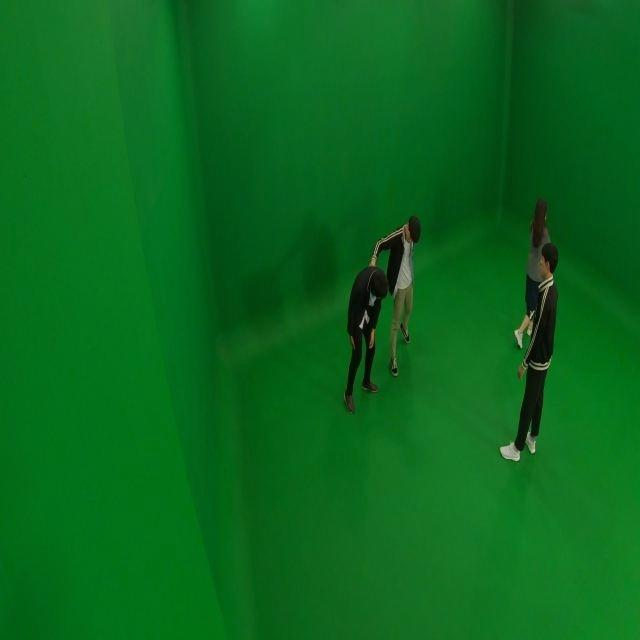fight: (342, 215, 428, 415)
non-fight: (498, 242, 559, 463), (513, 194, 553, 352)
